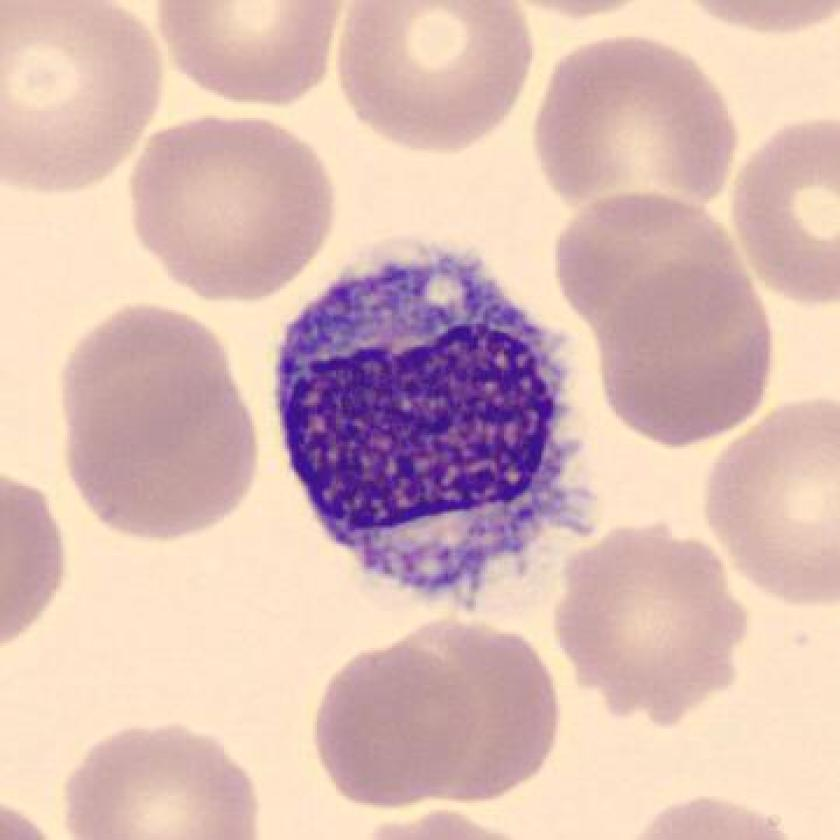monocyte: (248, 233, 617, 624)
